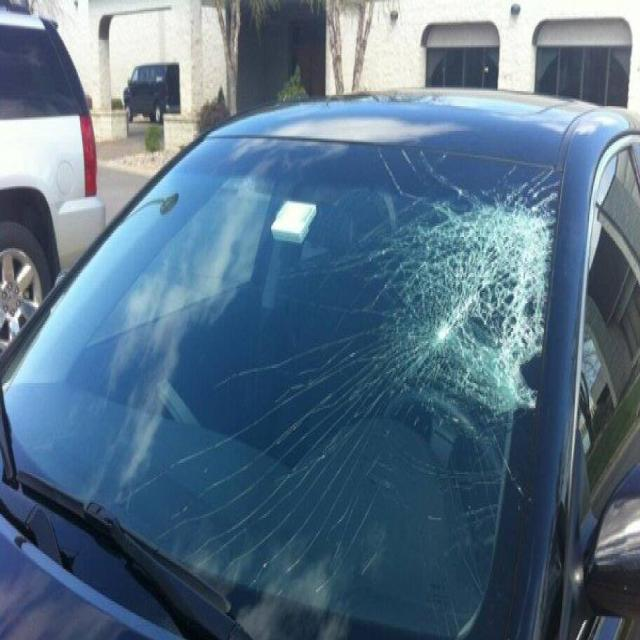crack: (124, 144, 562, 595)
